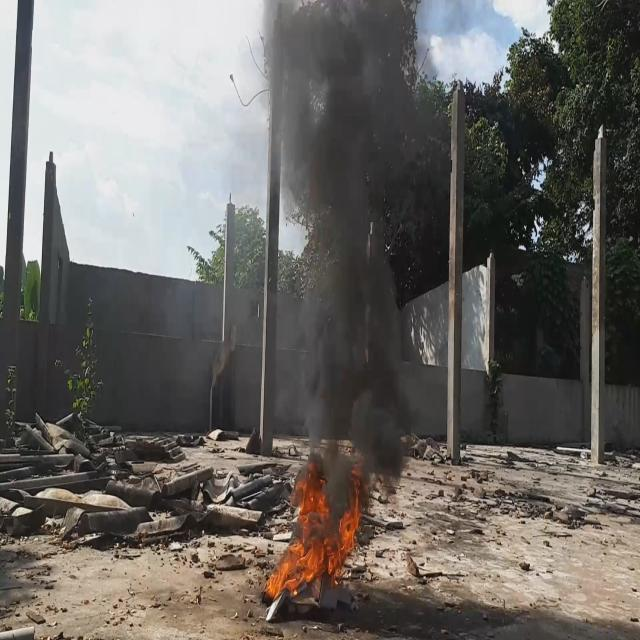Fire: (267, 452, 370, 599)
Smoke: (262, 0, 417, 518)
